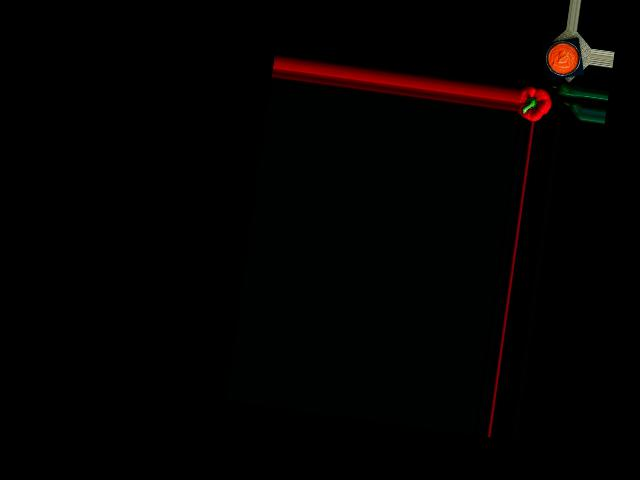bell_pepper: (517, 85, 552, 122)
